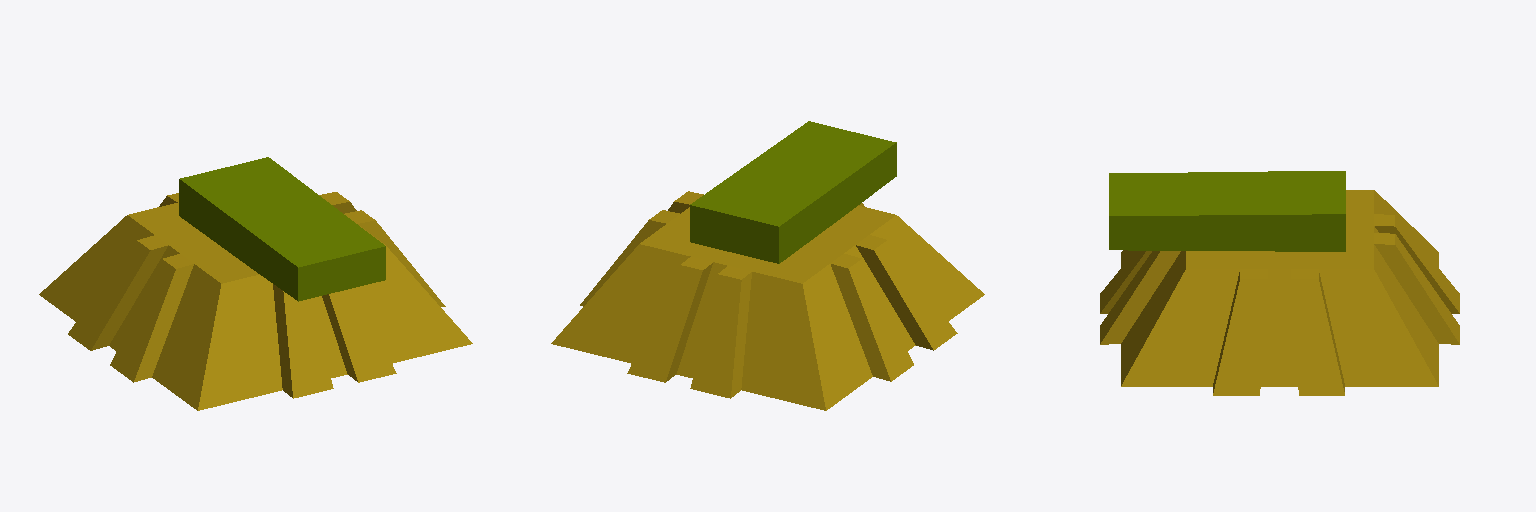
Rendered from Turret3.obj.
The picture shows the model from 3 angles: view 1: azimuth 30°, elevation 25°; view 2: azimuth 150°, elevation 25°; view 3: azimuth 270°, elevation 25°; orthographic projection.
Parts seen in each view (by area): view 1: Box003, Box002; view 2: Box003, Box002; view 3: Box003, Box002.
Boxes of the visible parts, box(x1,y1,x2,y2) form: Box003: box(39, 192, 472, 410); Box002: box(179, 157, 385, 301); Box003: box(551, 191, 984, 410); Box002: box(690, 121, 896, 263); Box003: box(1100, 190, 1459, 395); Box002: box(1109, 171, 1345, 251).
Size of the model in its own units: 44.79 by 17.56 by 44.79.